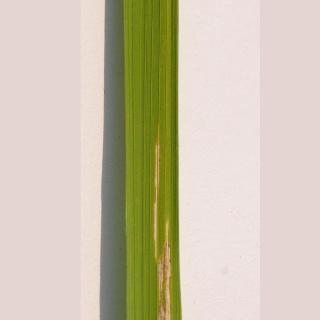Hawar-Daun: (144, 129, 178, 320)
